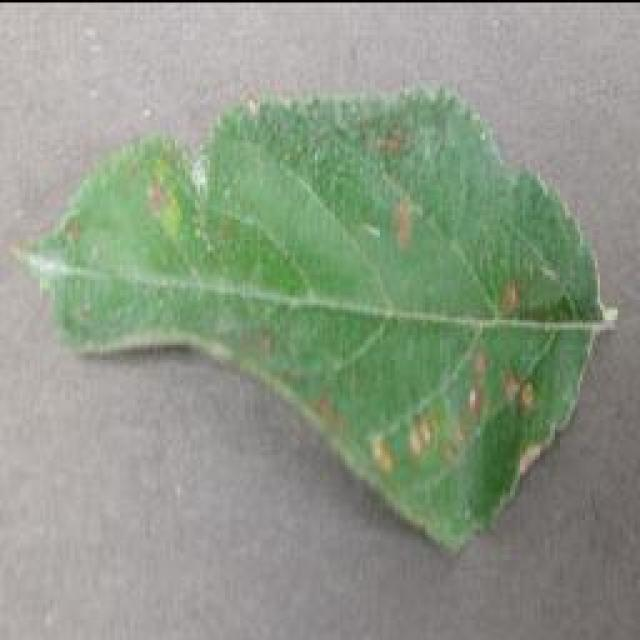apple rust disease: (12, 78, 618, 558)
